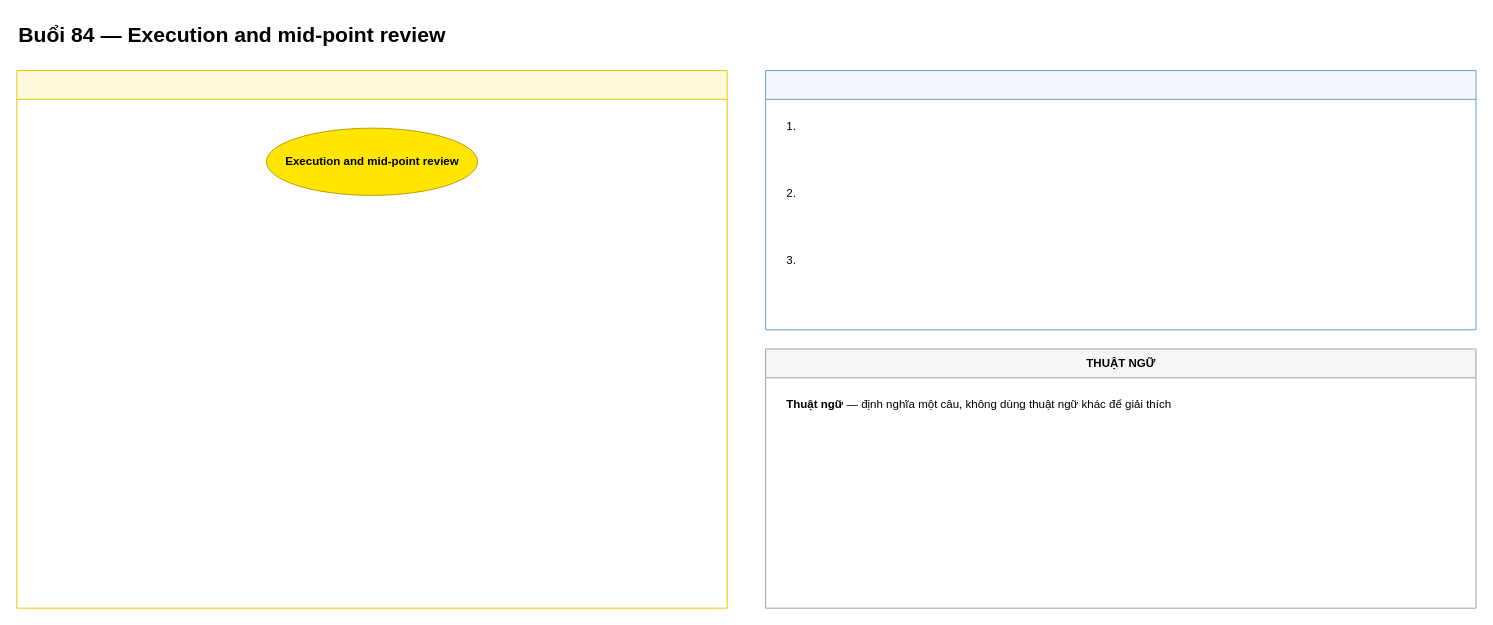
Image size: 1493x625. Some labels were removed from this diagram. Each missing label, with the box of its shape:
KEY TAKEAWAY — ba điều phải nhớ: (765, 70, 1476, 330)
MINDMAP: (16, 70, 727, 608)
